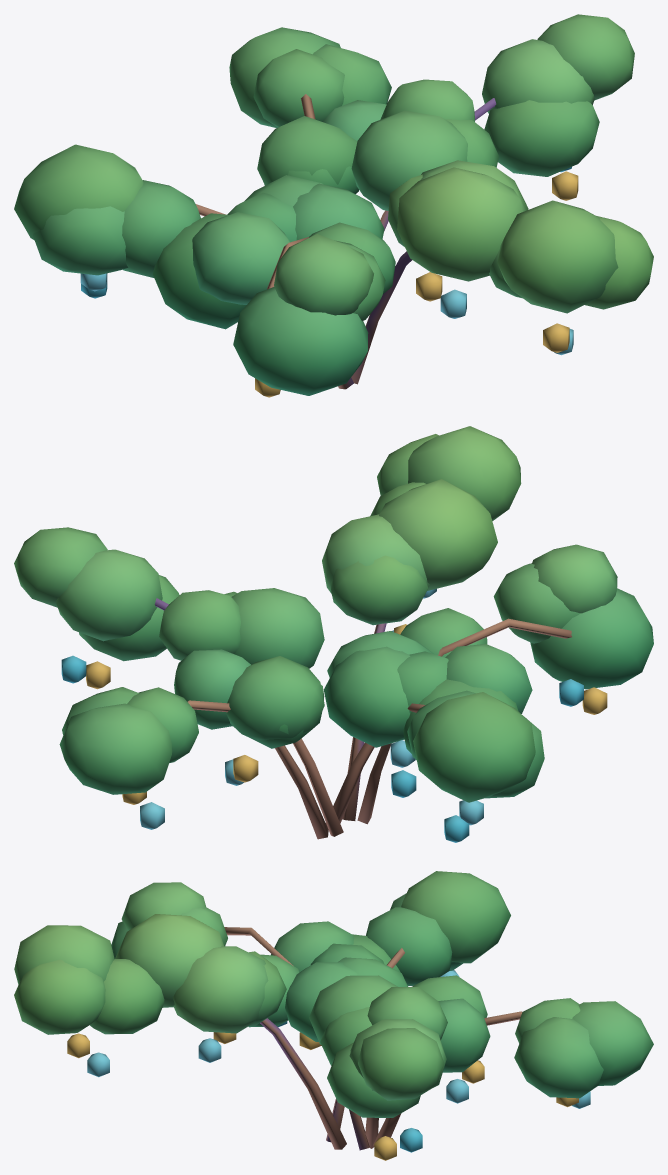
Rendered from verdant_bush_berry_b.glb.
3 views of the same model, one above another, from view 1: azimuth 30°, elevation 25°; view 2: azimuth 150°, elevation 25°; view 3: azimuth 270°, elevation 25° (orthographic). The views are drawn at different scales.
Visible parts, largest first — view 1: verdant_bush_berry_b; view 2: verdant_bush_berry_b; view 3: verdant_bush_berry_b.
Part boxes in pixels (left/top/right/bottom): verdant_bush_berry_b: left=14, top=14, right=653, bottom=397; verdant_bush_berry_b: left=14, top=426, right=653, bottom=842; verdant_bush_berry_b: left=14, top=871, right=653, bottom=1160.
Size of the model in its own units: 2.82 by 1.34 by 3.26.
